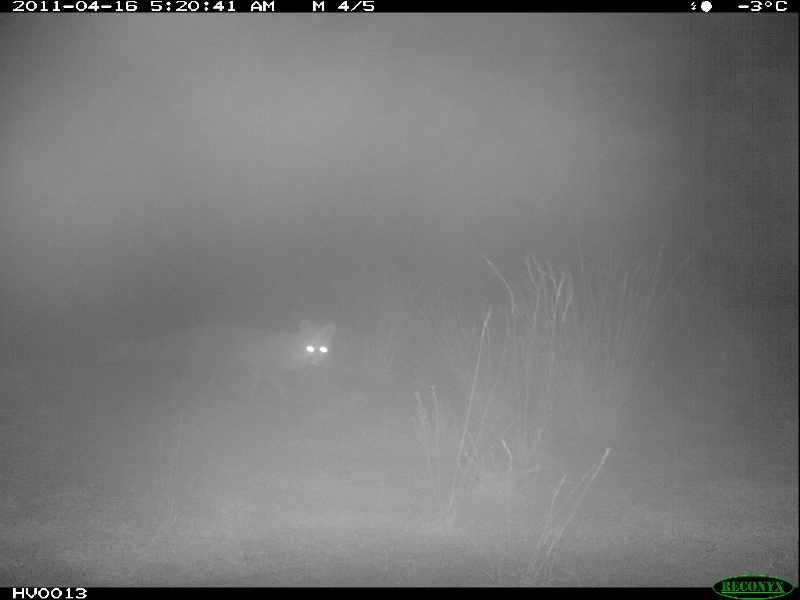fox: (106, 296, 345, 406)
